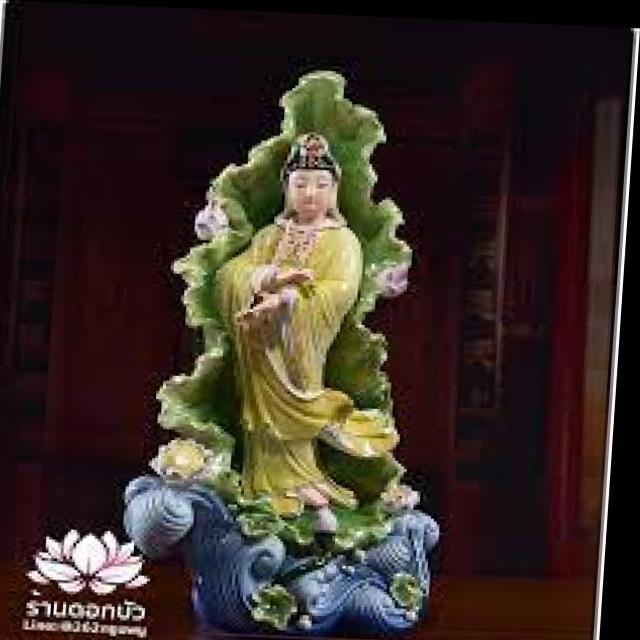Guan Yin: (212, 125, 375, 422)
